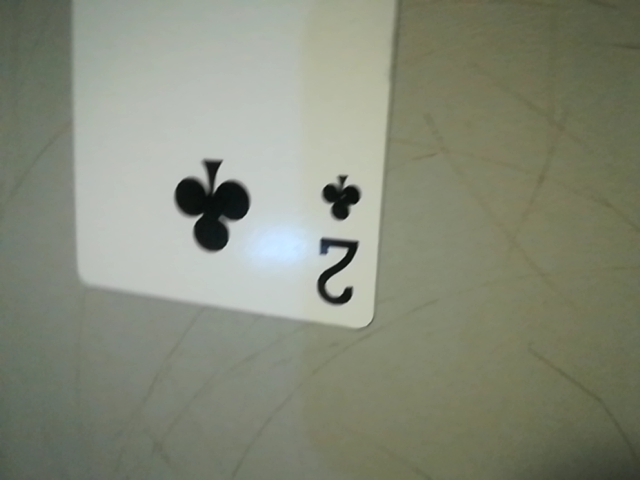mh 2: (301, 160, 375, 319)
